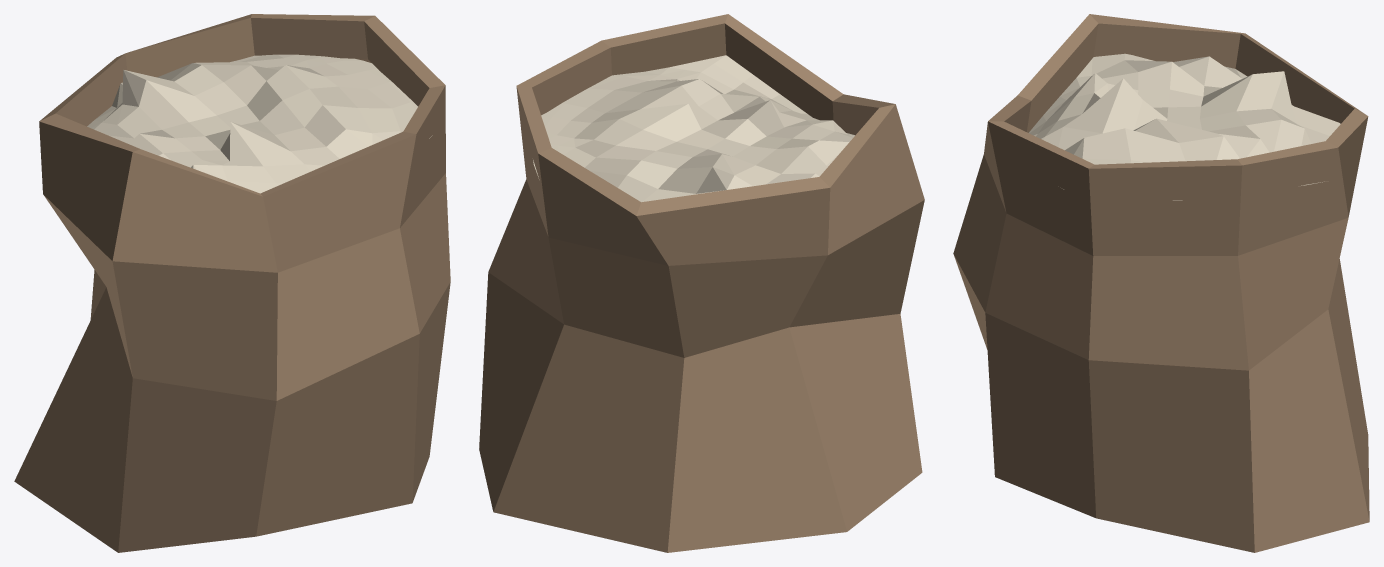
Rendered from riz.fbx.
The picture shows the model from 3 angles, left to right: view 1: azimuth 30°, elevation 25°; view 2: azimuth 150°, elevation 25°; view 3: azimuth 270°, elevation 25°; orthographic projection. The views are drawn at different scales.
Visible parts, largest first — view 1: riz; view 2: riz; view 3: riz.
Boxes of the visible parts, left/top/right/bottom form: riz: left=14, top=14, right=450, bottom=552; riz: left=479, top=14, right=924, bottom=552; riz: left=953, top=14, right=1369, bottom=552.
Size of the model in its own units: 30.99 by 30.02 by 30.33.
